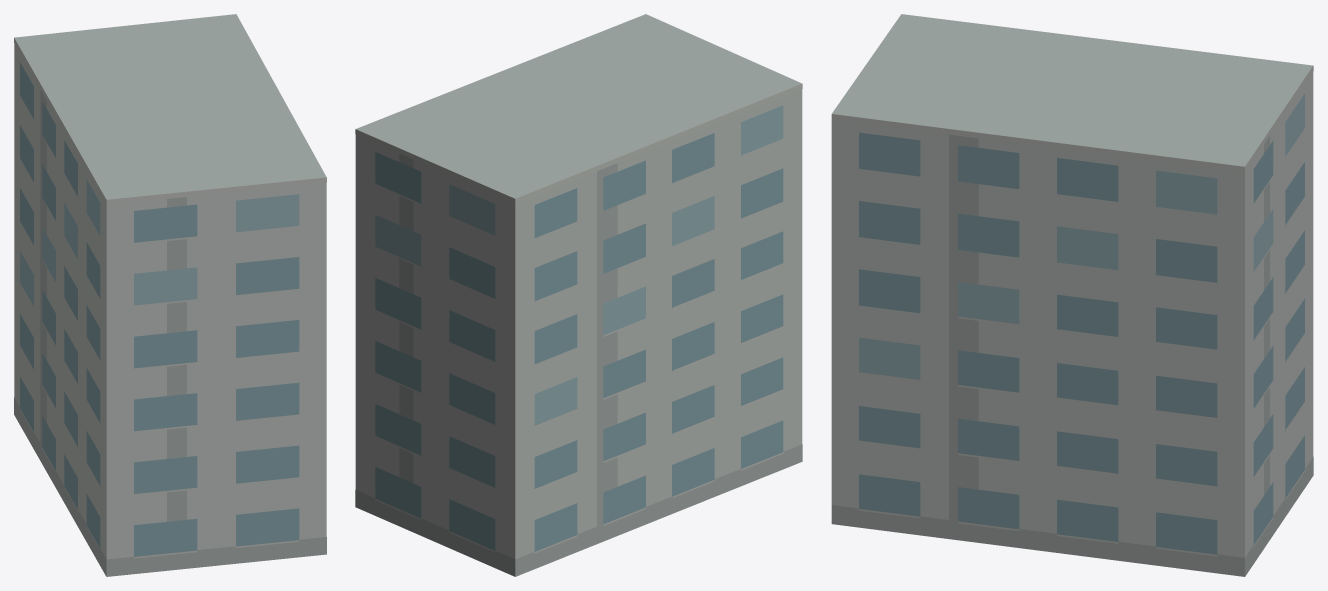
The model's file is survey-upis-32943346.glb.
The picture shows the model from 3 angles, left to right: view 1: azimuth 30°, elevation 25°; view 2: azimuth 150°, elevation 25°; view 3: azimuth 270°, elevation 25°; orthographic projection. The views are drawn at different scales.
Visible parts, largest first — view 1: survey-upis-32943346.tmp; view 2: survey-upis-32943346.tmp; view 3: survey-upis-32943346.tmp.
Part boxes in pixels (x1,y1,x2,y2): survey-upis-32943346.tmp: (14, 14, 326, 576); survey-upis-32943346.tmp: (355, 14, 802, 576); survey-upis-32943346.tmp: (831, 14, 1313, 576).
Size of the model in its own units: 13.99 by 17.5 by 18.64.
